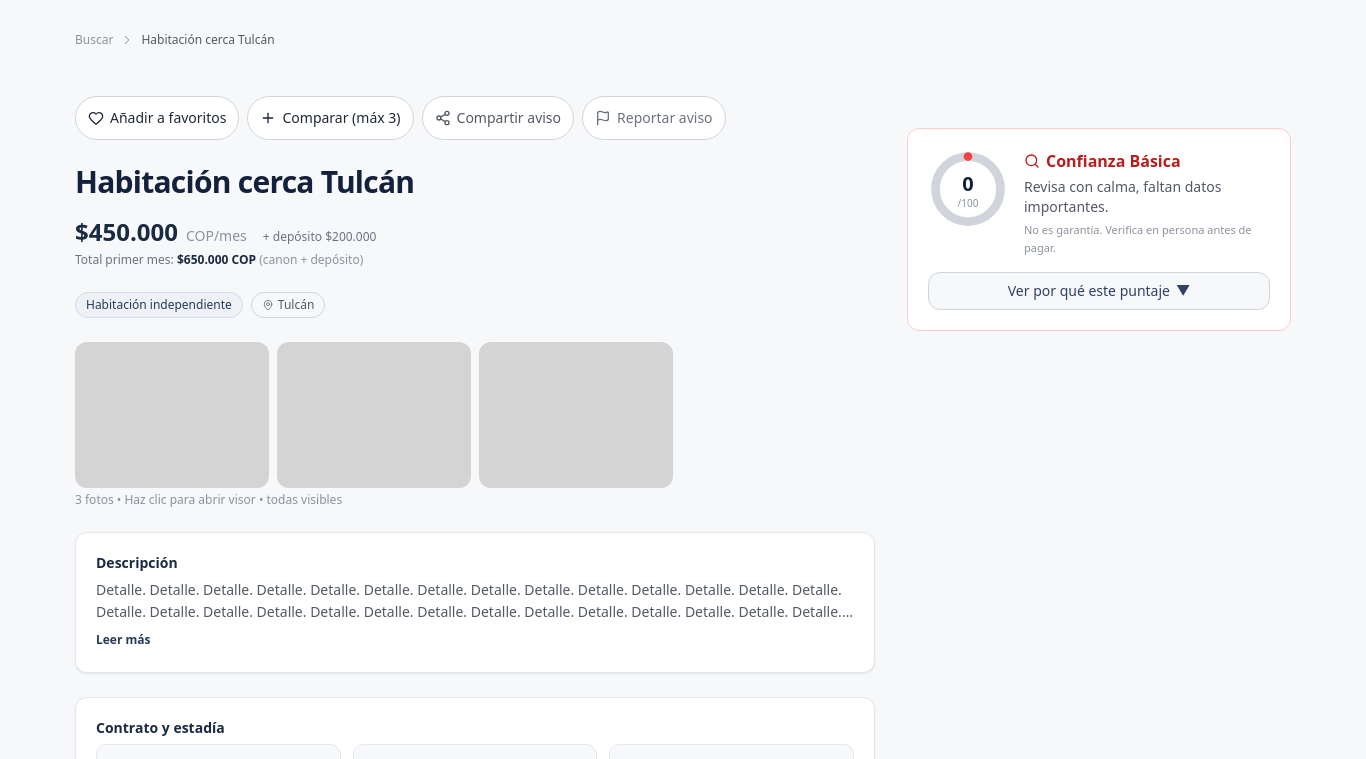
Test: Detalle ramas sin cubrir (contacto, errores, fallbacks) › descripción larga ofrece Leer más / Leer menos
Click the button "Leer más".
click(123, 640)  # box top-left (96, 632), bottom-right (150, 648)
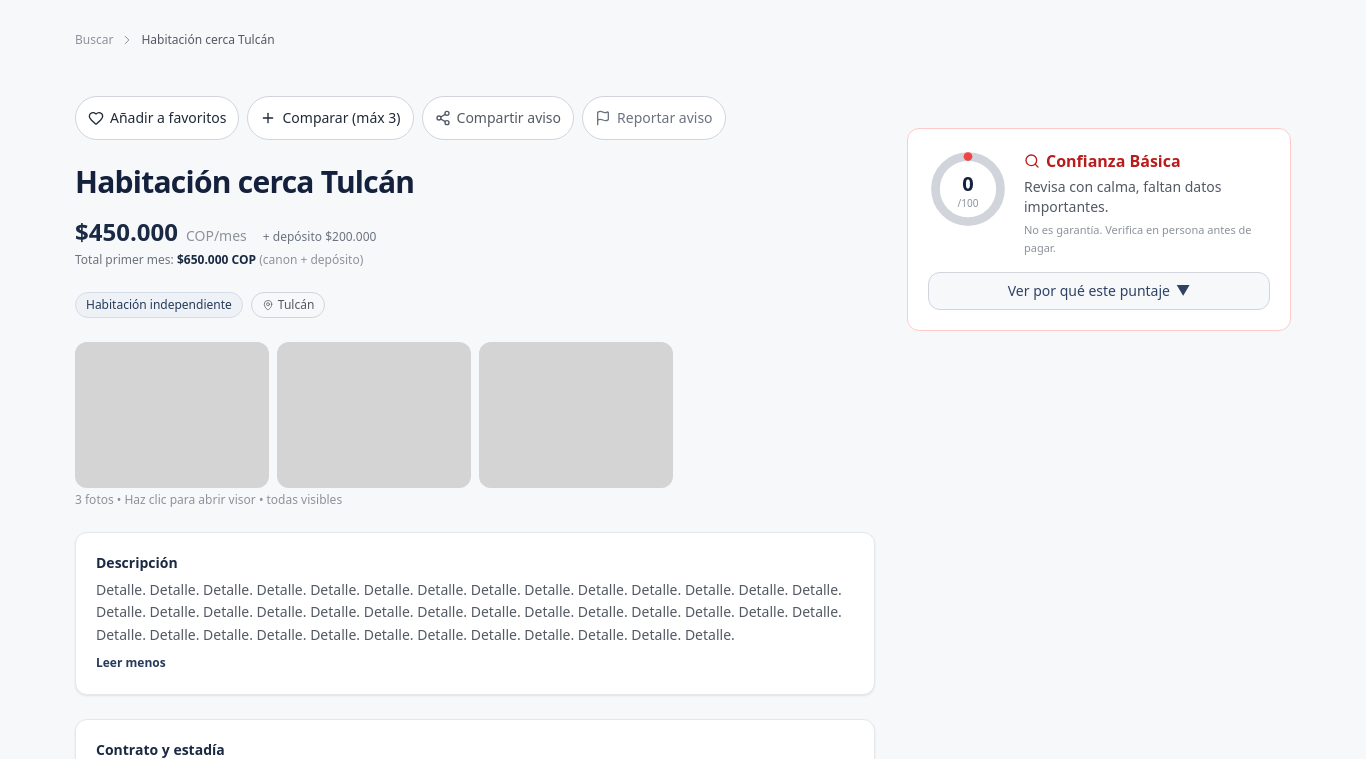
Check: the button "Leer menos" is shown, box top-left (96, 655), bottom-right (166, 671)
